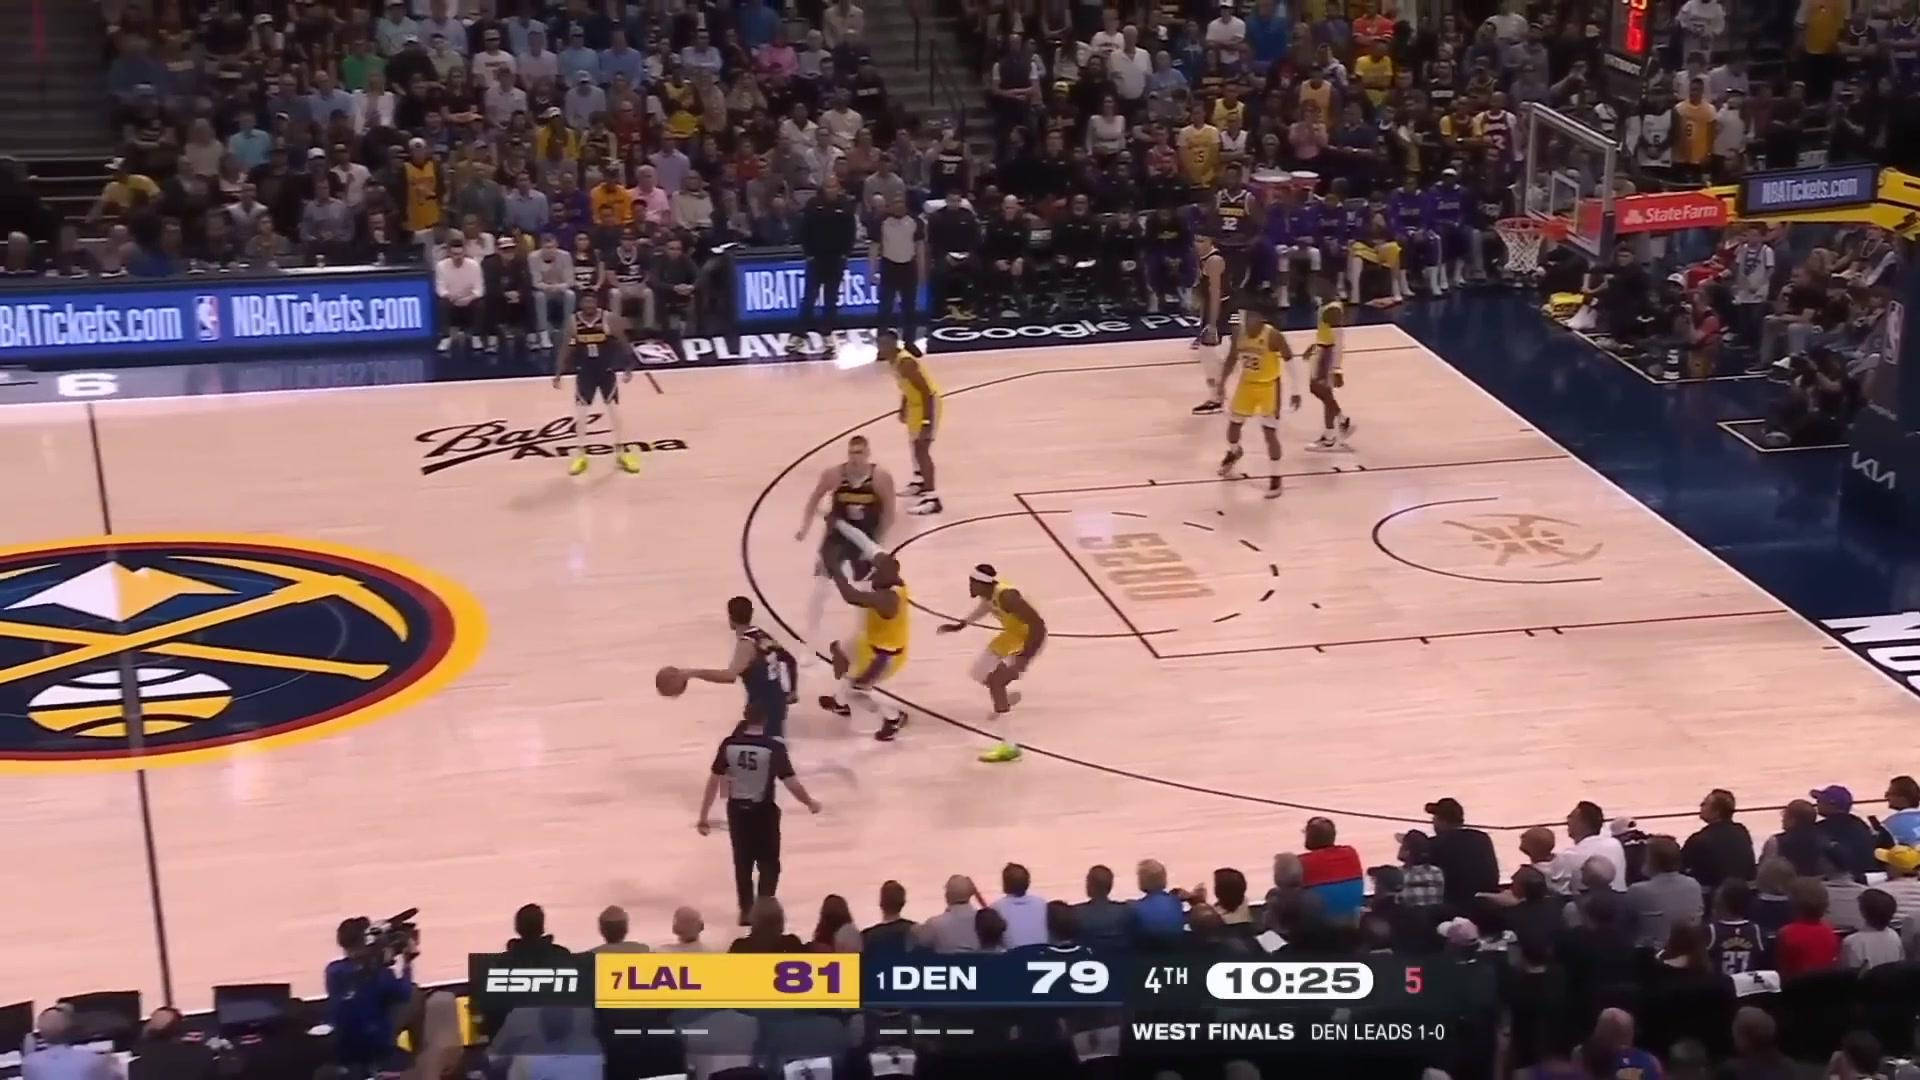foul: (798, 430, 938, 725)
